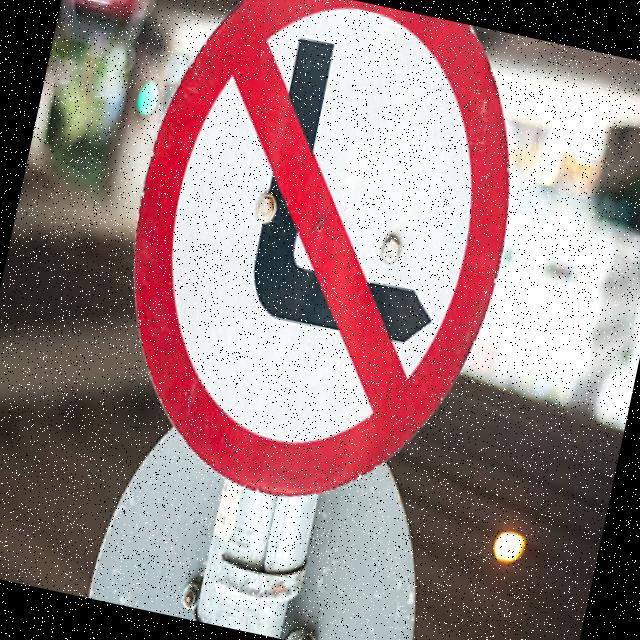do_not_turn_right: (82, 0, 549, 535)
